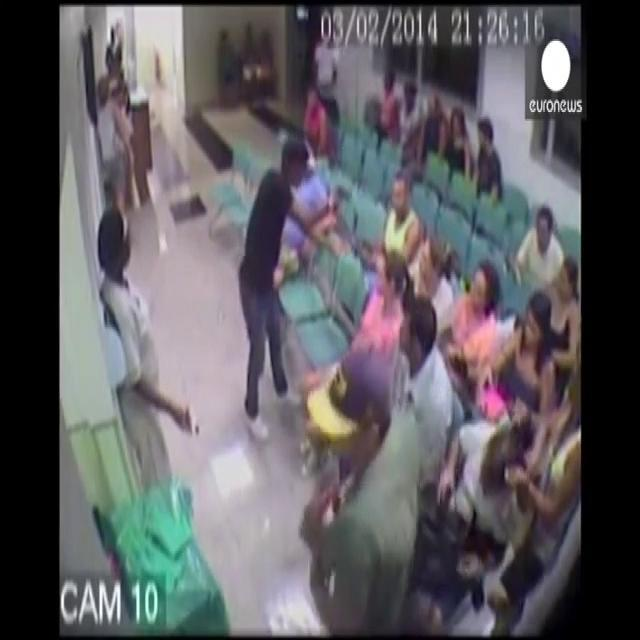weapon: (329, 181, 353, 203)
